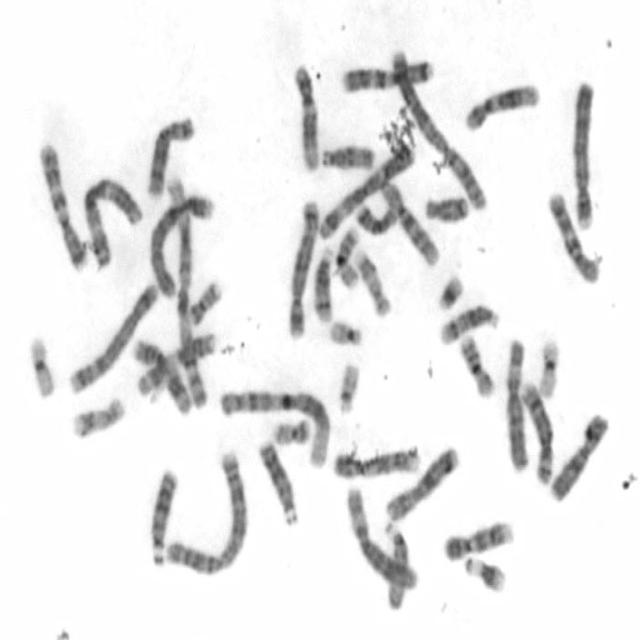A1: (155, 174, 214, 411), (216, 384, 331, 470)
A2: (388, 45, 489, 211), (164, 447, 248, 578)
A3: (315, 136, 416, 242), (80, 171, 143, 270)
B4: (146, 188, 216, 300), (568, 75, 596, 233)
B5: (64, 278, 160, 397), (284, 195, 321, 341)
C10: (377, 176, 442, 270), (543, 185, 601, 286)
C11: (132, 325, 218, 397), (130, 334, 192, 416)
C12: (461, 78, 541, 134), (290, 59, 321, 172)
C6: (342, 481, 419, 591), (502, 334, 530, 475)
C7: (34, 138, 89, 272), (338, 54, 434, 95)
C8: (143, 111, 197, 200), (517, 377, 555, 485)
C9: (330, 441, 422, 481), (440, 515, 515, 563)
D13: (256, 435, 299, 527), (146, 462, 179, 566)
D14: (436, 298, 501, 348), (309, 243, 335, 325)
D15: (380, 518, 409, 612), (318, 139, 376, 171)
E16: (456, 328, 496, 400), (332, 222, 362, 290)
E17: (352, 246, 392, 319), (68, 392, 127, 440)
E18: (352, 198, 402, 236), (422, 191, 469, 224)
F19: (25, 330, 57, 400), (534, 334, 562, 400)
F20: (186, 276, 222, 326), (268, 415, 312, 446)
G21: (461, 551, 507, 595), (434, 270, 465, 312)
G22: (334, 357, 362, 415), (326, 316, 364, 348)
X: (382, 442, 461, 522), (547, 407, 611, 505)
